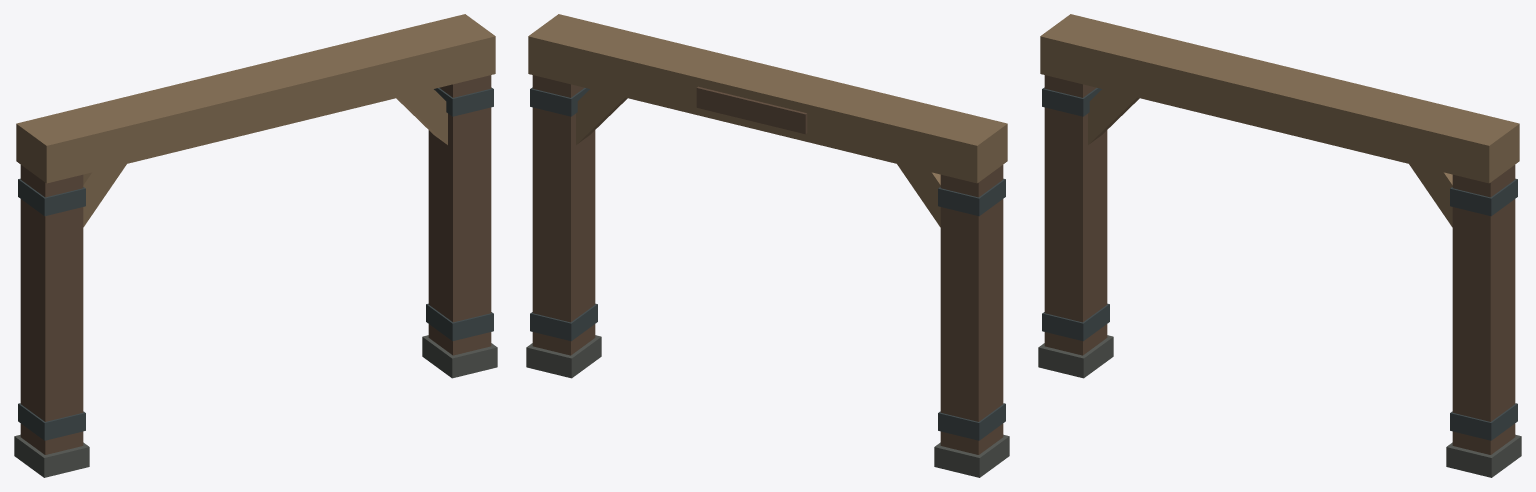
Rendered from Mine_TimberSupport.fbx.
3 views of the same model, side by side, from view 1: azimuth 30°, elevation 25°; view 2: azimuth 150°, elevation 25°; view 3: azimuth 330°, elevation 25° (orthographic).
Parts seen in each view (by area): view 1: Mine_TimberSupport; view 2: Mine_TimberSupport; view 3: Mine_TimberSupport.
Part boxes in pixels (x1,y1,x2,y2): Mine_TimberSupport: (14,14,497,477); Mine_TimberSupport: (526,14,1009,477); Mine_TimberSupport: (1038,14,1521,477).
Size of the model in its own units: 4.29 by 3 by 0.5265.
